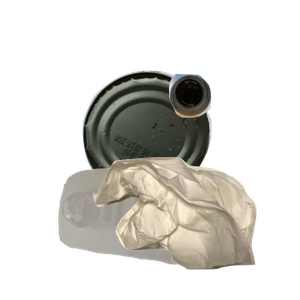glass: (166, 71, 300, 181)
metal: (80, 68, 284, 248)
plastic: (56, 166, 241, 300)
trash: (90, 155, 300, 300)
